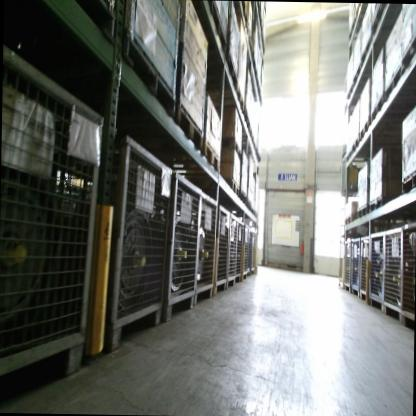pallet: (118, 30, 177, 118), (190, 0, 228, 54), (169, 137, 220, 172), (173, 101, 204, 158), (358, 114, 413, 144), (351, 127, 405, 156), (369, 92, 412, 126), (207, 46, 237, 92), (384, 67, 416, 102), (345, 145, 398, 164), (400, 23, 416, 78), (362, 35, 387, 67), (370, 4, 397, 31), (368, 193, 399, 216), (345, 78, 376, 101), (240, 1, 253, 54), (217, 135, 243, 159), (345, 18, 368, 41), (400, 164, 416, 194), (352, 62, 373, 83), (219, 177, 240, 197), (353, 4, 369, 23), (357, 204, 368, 219), (246, 124, 255, 142), (237, 188, 247, 204), (344, 213, 356, 226), (243, 113, 251, 131), (244, 198, 251, 211), (251, 141, 257, 154), (249, 204, 255, 215), (256, 149, 260, 161), (253, 211, 258, 219)
stillage: (0, 37, 114, 390), (87, 121, 174, 351), (153, 166, 201, 329), (192, 184, 217, 314), (383, 220, 404, 316), (212, 199, 231, 301), (401, 215, 416, 331), (369, 228, 386, 311), (225, 207, 238, 291), (359, 232, 372, 301), (350, 234, 362, 295), (234, 215, 243, 287), (343, 238, 353, 291), (240, 221, 248, 281), (249, 225, 257, 276), (246, 223, 253, 280)
